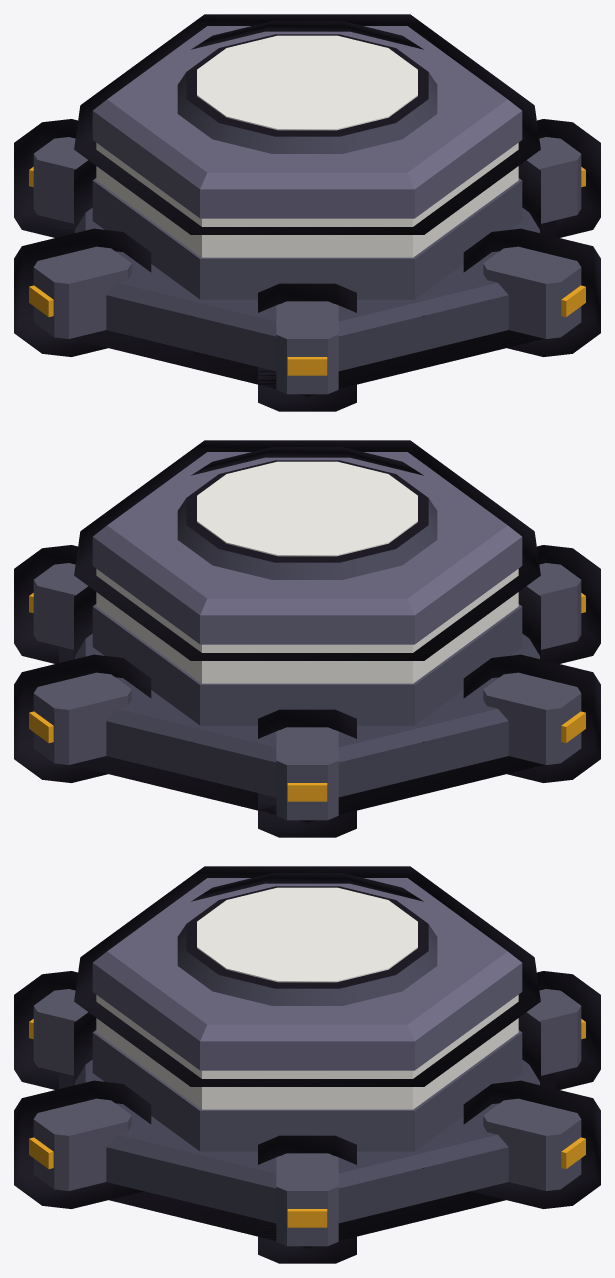
The model's file is fps-gear.glb.
3 views of the same model, one above another, from view 1: azimuth 30°, elevation 25°; view 2: azimuth 150°, elevation 25°; view 3: azimuth 270°, elevation 25° (orthographic).
Parts seen in each view (by area): view 1: LOOT_Capsule, LOOT_Glow; view 2: LOOT_Capsule, LOOT_Glow; view 3: LOOT_Capsule, LOOT_Glow.
Boxes of the visible parts, bbox=[...] form: LOOT_Capsule: bbox=[14, 14, 600, 411]; LOOT_Glow: bbox=[96, 35, 518, 257]; LOOT_Capsule: bbox=[14, 440, 600, 837]; LOOT_Glow: bbox=[96, 461, 518, 683]; LOOT_Capsule: bbox=[14, 866, 600, 1263]; LOOT_Glow: bbox=[96, 887, 518, 1109].
Size of the model in its own units: 0.721 by 0.334 by 0.6559.
Materials: 1 (1 with a texture image).
